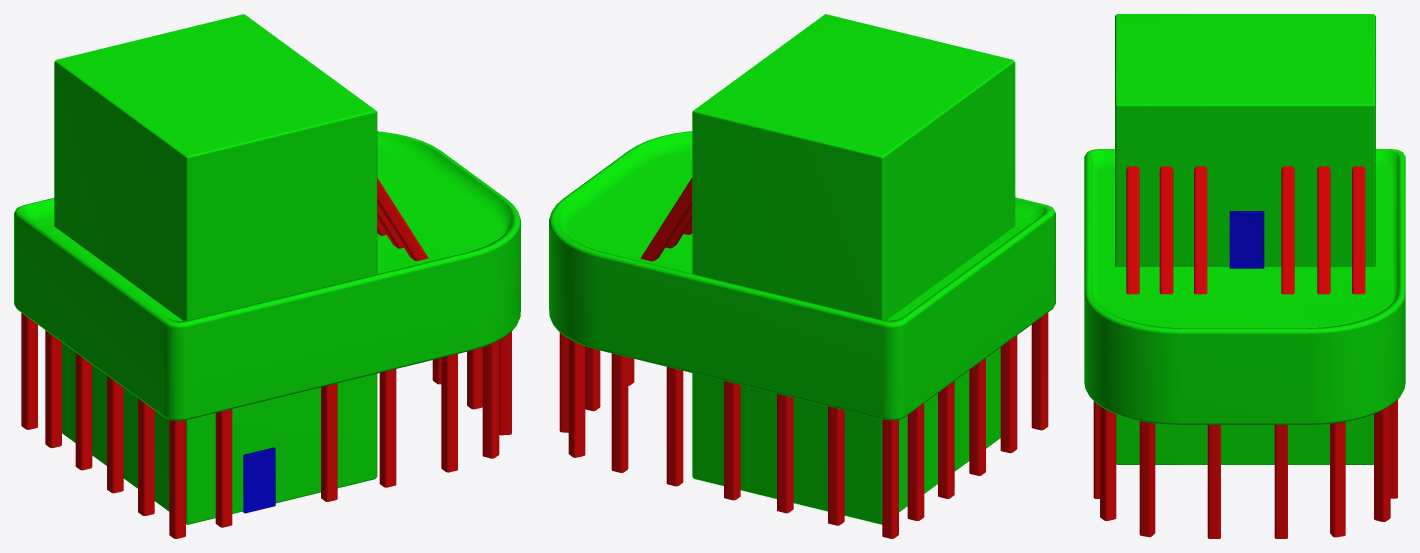
File: Tower_Base.fbx
3 views of the same model, side by side, from view 1: azimuth 30°, elevation 25°; view 2: azimuth 150°, elevation 25°; view 3: azimuth 270°, elevation 25° (orthographic). The views are drawn at different scales.
Visible parts, largest first — view 1: Tower_Base_UV; view 2: Tower_Base_UV; view 3: Tower_Base_UV.
Part boxes in pixels (x1,y1,x2,y2): Tower_Base_UV: [14, 14, 520, 538]; Tower_Base_UV: [549, 14, 1055, 538]; Tower_Base_UV: [1084, 14, 1405, 538].
Size of the model in its own units: 1568 by 1438 by 1160.
